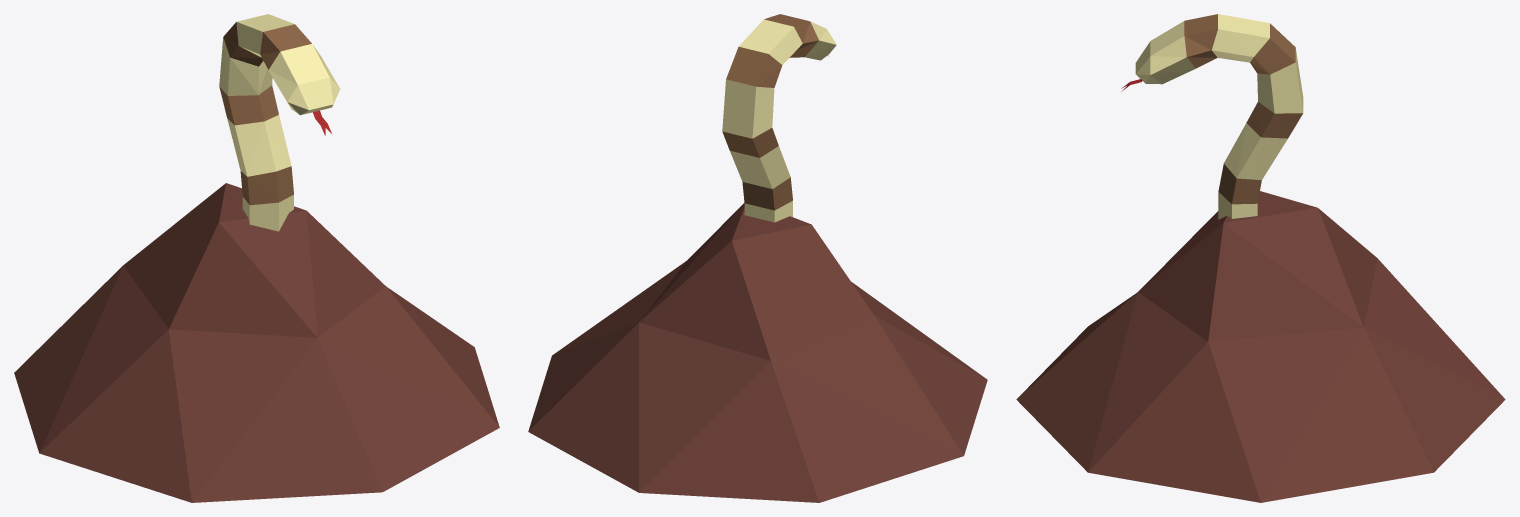
File: snake.FBX
3 views of the same model, side by side, from view 1: azimuth 30°, elevation 25°; view 2: azimuth 150°, elevation 25°; view 3: azimuth 270°, elevation 25° (orthographic). The views are drawn at different scales.
Parts seen in each view (by area): view 1: snake_sand, snake_body; view 2: snake_sand, snake_body; view 3: snake_sand, snake_body.
Part boxes in pixels (left/top/right/bottom): snake_sand: left=14, top=183, right=499, bottom=502; snake_body: left=219, top=14, right=340, bottom=231; snake_sand: left=528, top=203, right=987, bottom=502; snake_body: left=722, top=14, right=836, bottom=222; snake_sand: left=1016, top=191, right=1505, bottom=502; snake_body: left=1121, top=14, right=1303, bottom=219.
Size of the model in its own units: 25.05 by 21.35 by 25.05.
